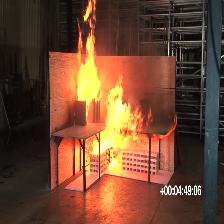fire: (90, 77, 143, 169), (76, 0, 101, 120)
